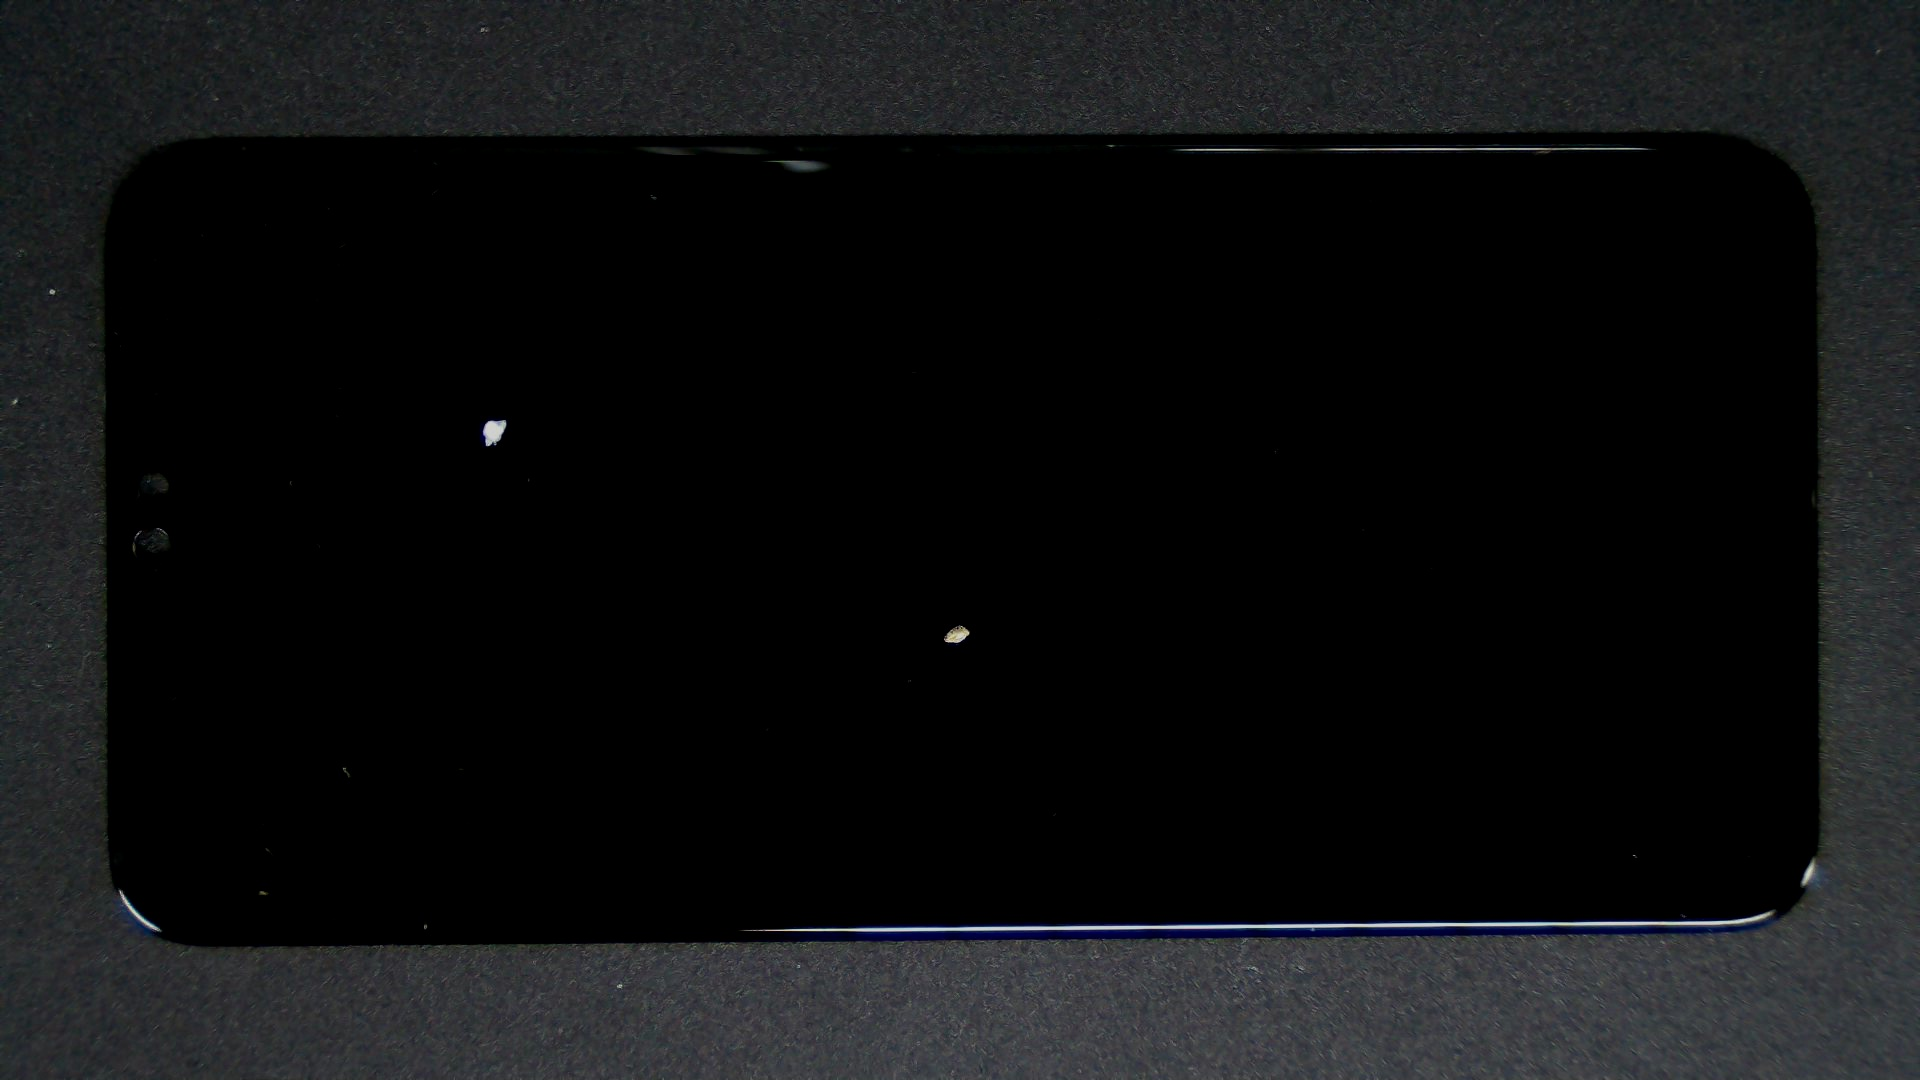oil: (480, 311, 1440, 935), (247, 207, 731, 630)
